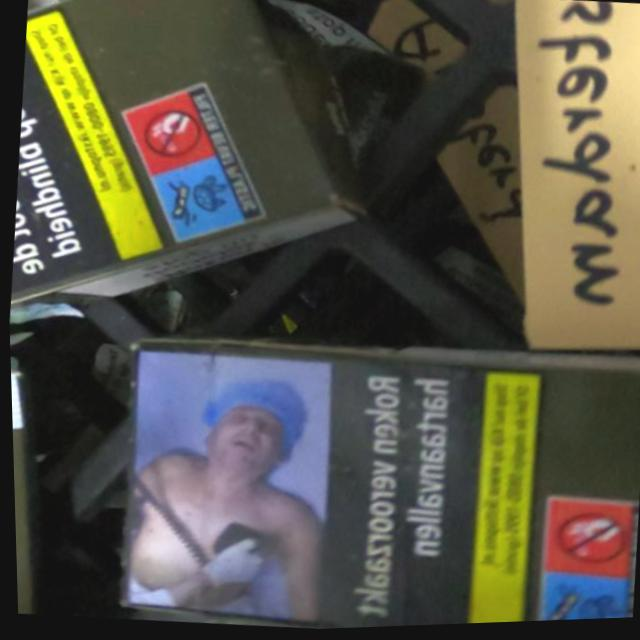Paper: (103, 312, 640, 637), (0, 0, 441, 360)
